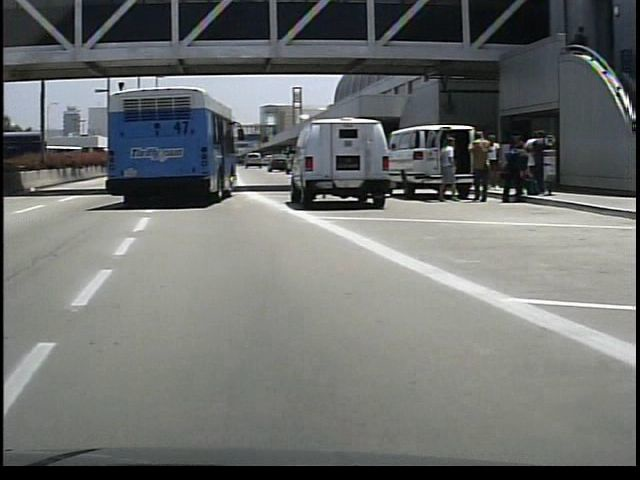person: (464, 129, 490, 206), (433, 133, 457, 204)
